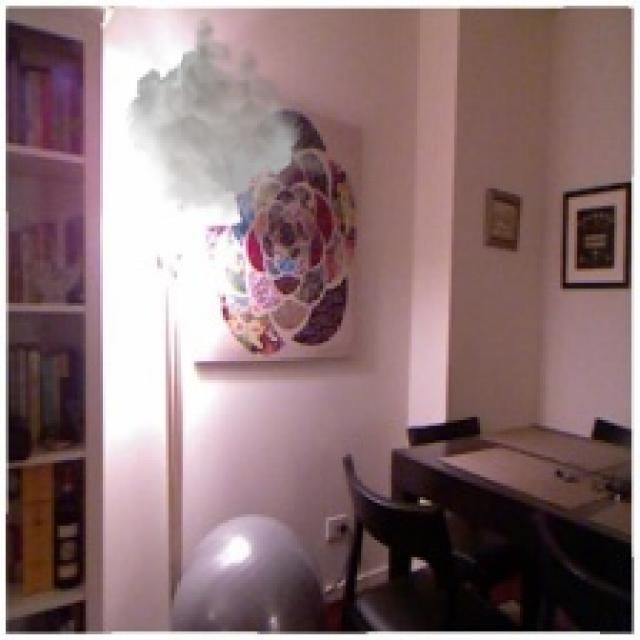smoke: (125, 8, 328, 223)
